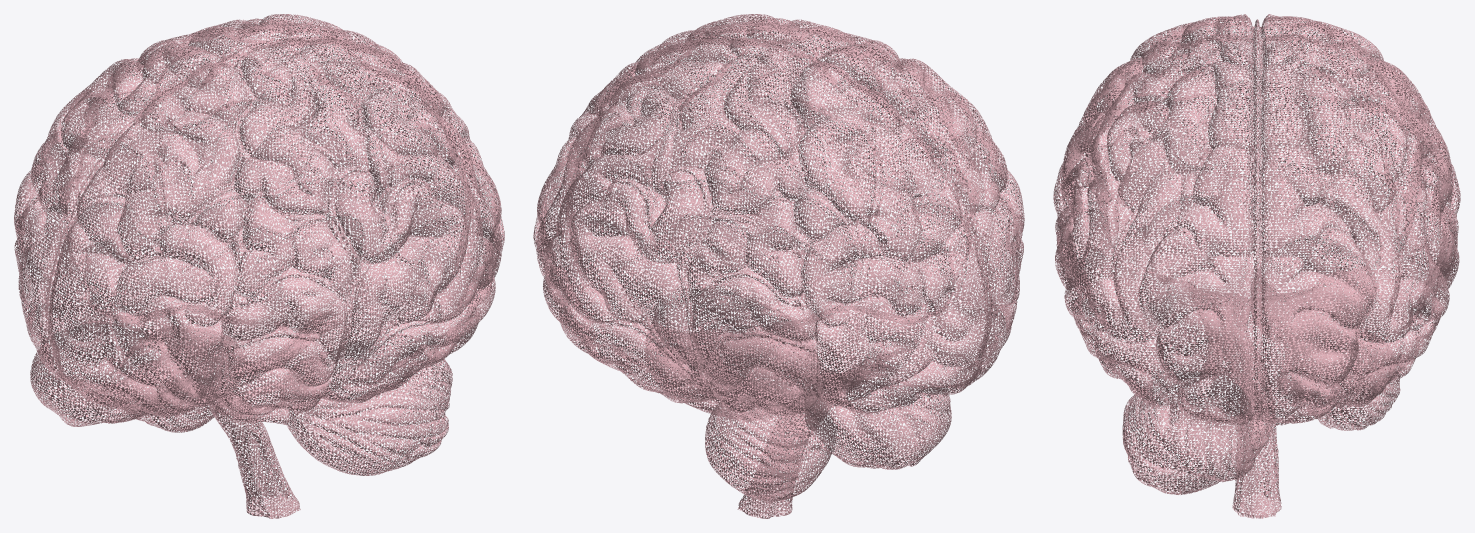
The model's file is sara-brain.glb.
3 renders of one model, left to right at view 1: azimuth 30°, elevation 25°; view 2: azimuth 150°, elevation 25°; view 3: azimuth 270°, elevation 25°, orthographic. The views are drawn at different scales.
Parts seen in each view (by area): view 1: Cerebro_optimizado; view 2: Cerebro_optimizado; view 3: Cerebro_optimizado.
Part boxes in pixels (bbox=[...]): Cerebro_optimizado: bbox=[14, 14, 504, 518]; Cerebro_optimizado: bbox=[533, 14, 1024, 518]; Cerebro_optimizado: bbox=[1053, 14, 1460, 518].
Size of the model in its own units: 1.91 by 2 by 1.59.
